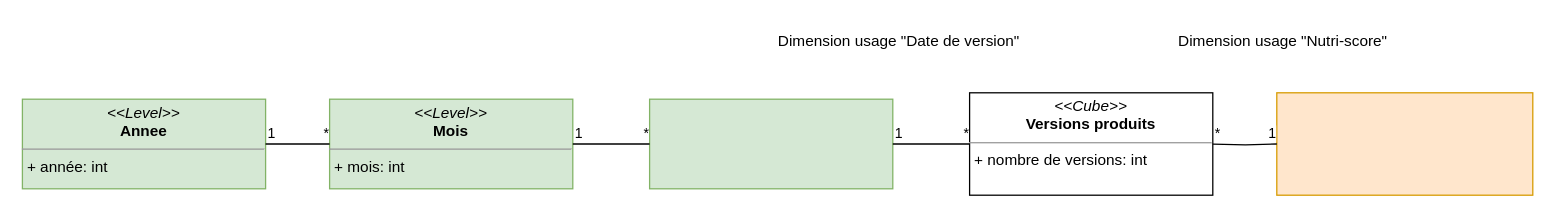
This 1555x218 diagram has some shape labels left out. Here are the shapes that lost their labels. From the top down, the box of each, then its label:
(648, 98, 893, 189): <<Level>> Jour + jour: int
(1276, 92, 1533, 195): <<Level>> Nutriscore + nutriscore: String
